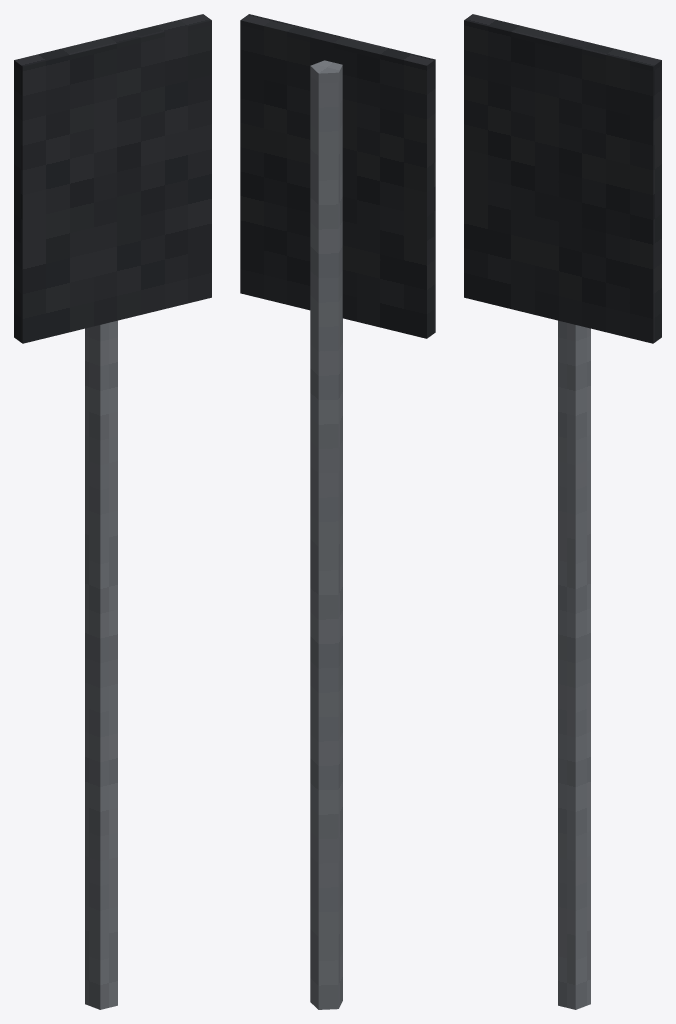
File: env_parking_sign.glb
The picture shows the model from 3 angles, left to right: view 1: azimuth 30°, elevation 25°; view 2: azimuth 150°, elevation 25°; view 3: azimuth 330°, elevation 25°; orthographic projection.
Visible parts, largest first — view 1: env_parking_sign; view 2: env_parking_sign; view 3: env_parking_sign.
Boxes of the visible parts, box(x1,y1,x2,y2) form: env_parking_sign: box(14, 14, 211, 1009); env_parking_sign: box(240, 14, 435, 1009); env_parking_sign: box(464, 14, 661, 1009).
Size of the model in its own units: 0.5 by 2.45 by 0.11.
Materials: 2 (2 with a texture image).
